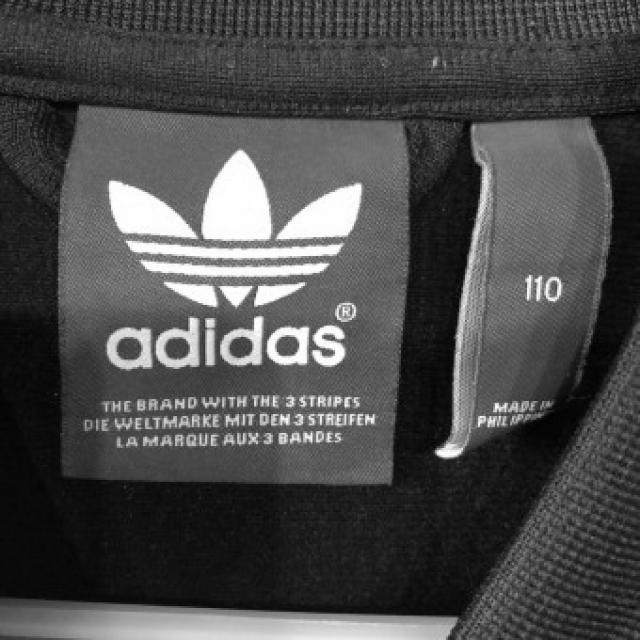Adidas: (92, 136, 370, 386)
